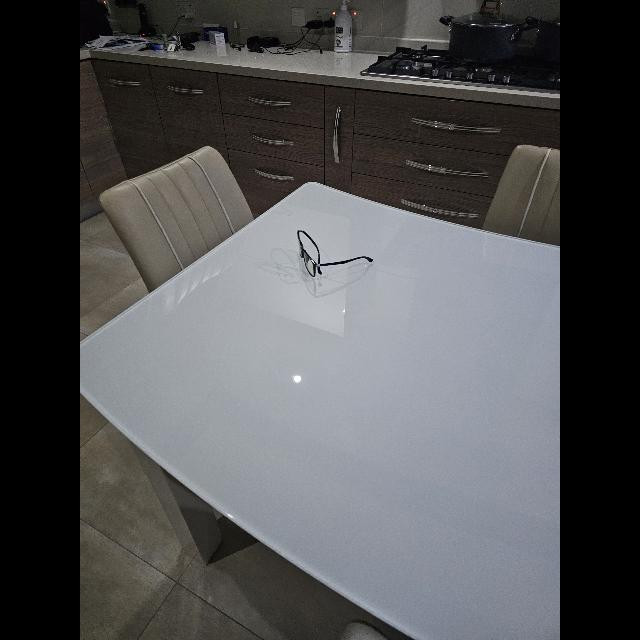glasses: (297, 230, 373, 278)
